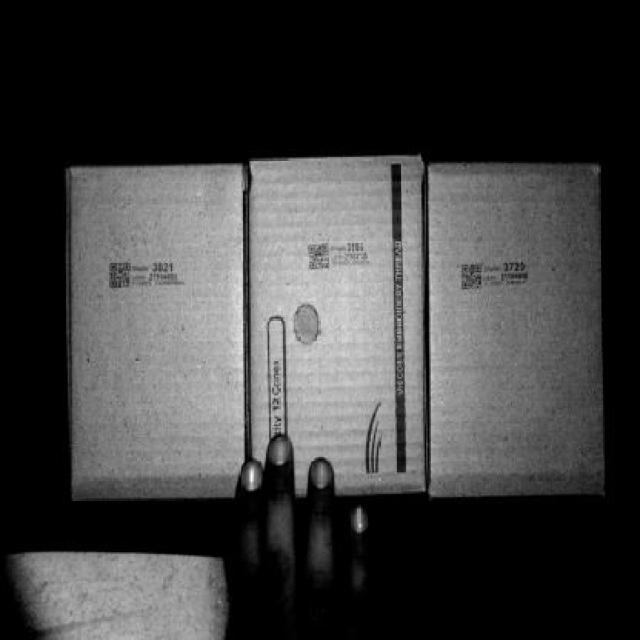cardboxes: (71, 172, 247, 494), (435, 166, 607, 494), (256, 166, 421, 492)
